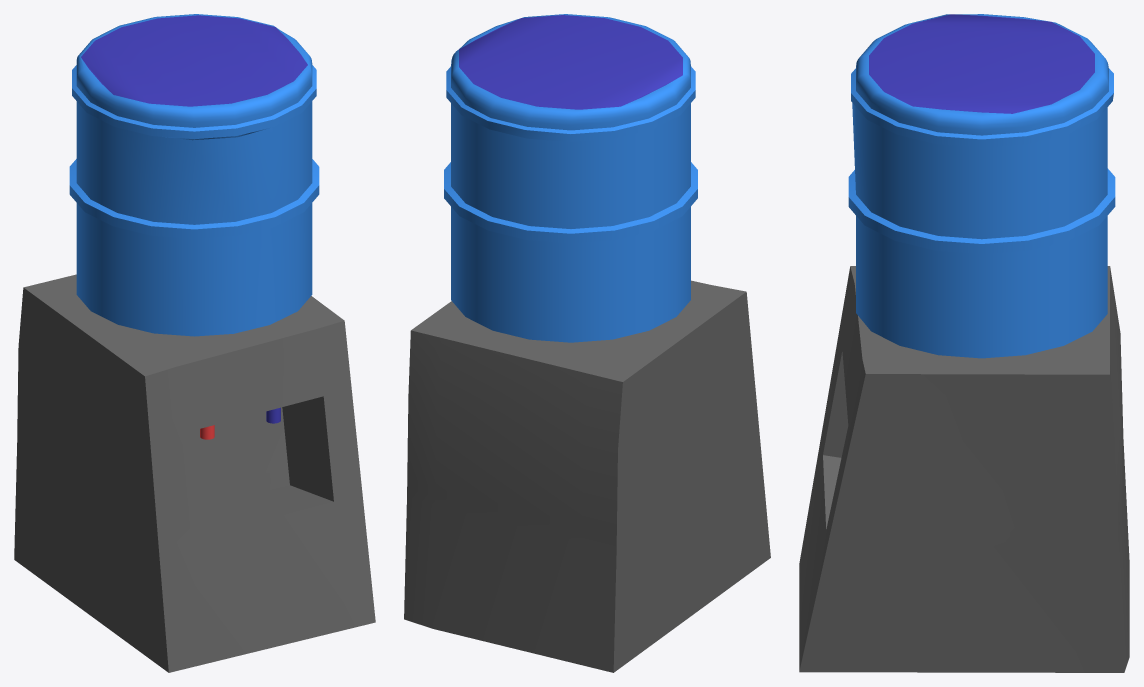
The model's file is waterdispenser.FBX.
3 renders of one model, left to right at view 1: azimuth 30°, elevation 25°; view 2: azimuth 150°, elevation 25°; view 3: azimuth 270°, elevation 25°, orthographic. The views are drawn at different scales.
Parts seen in each view (by area): view 1: waterdispenser; view 2: waterdispenser; view 3: waterdispenser.
Boxes of the visible parts, x1,y1,x2,y2 form: waterdispenser: (14,14,375,672); waterdispenser: (404,14,770,672); waterdispenser: (799,14,1129,672).
Size of the model in its own units: 0.3814 by 0.8622 by 0.4627.
